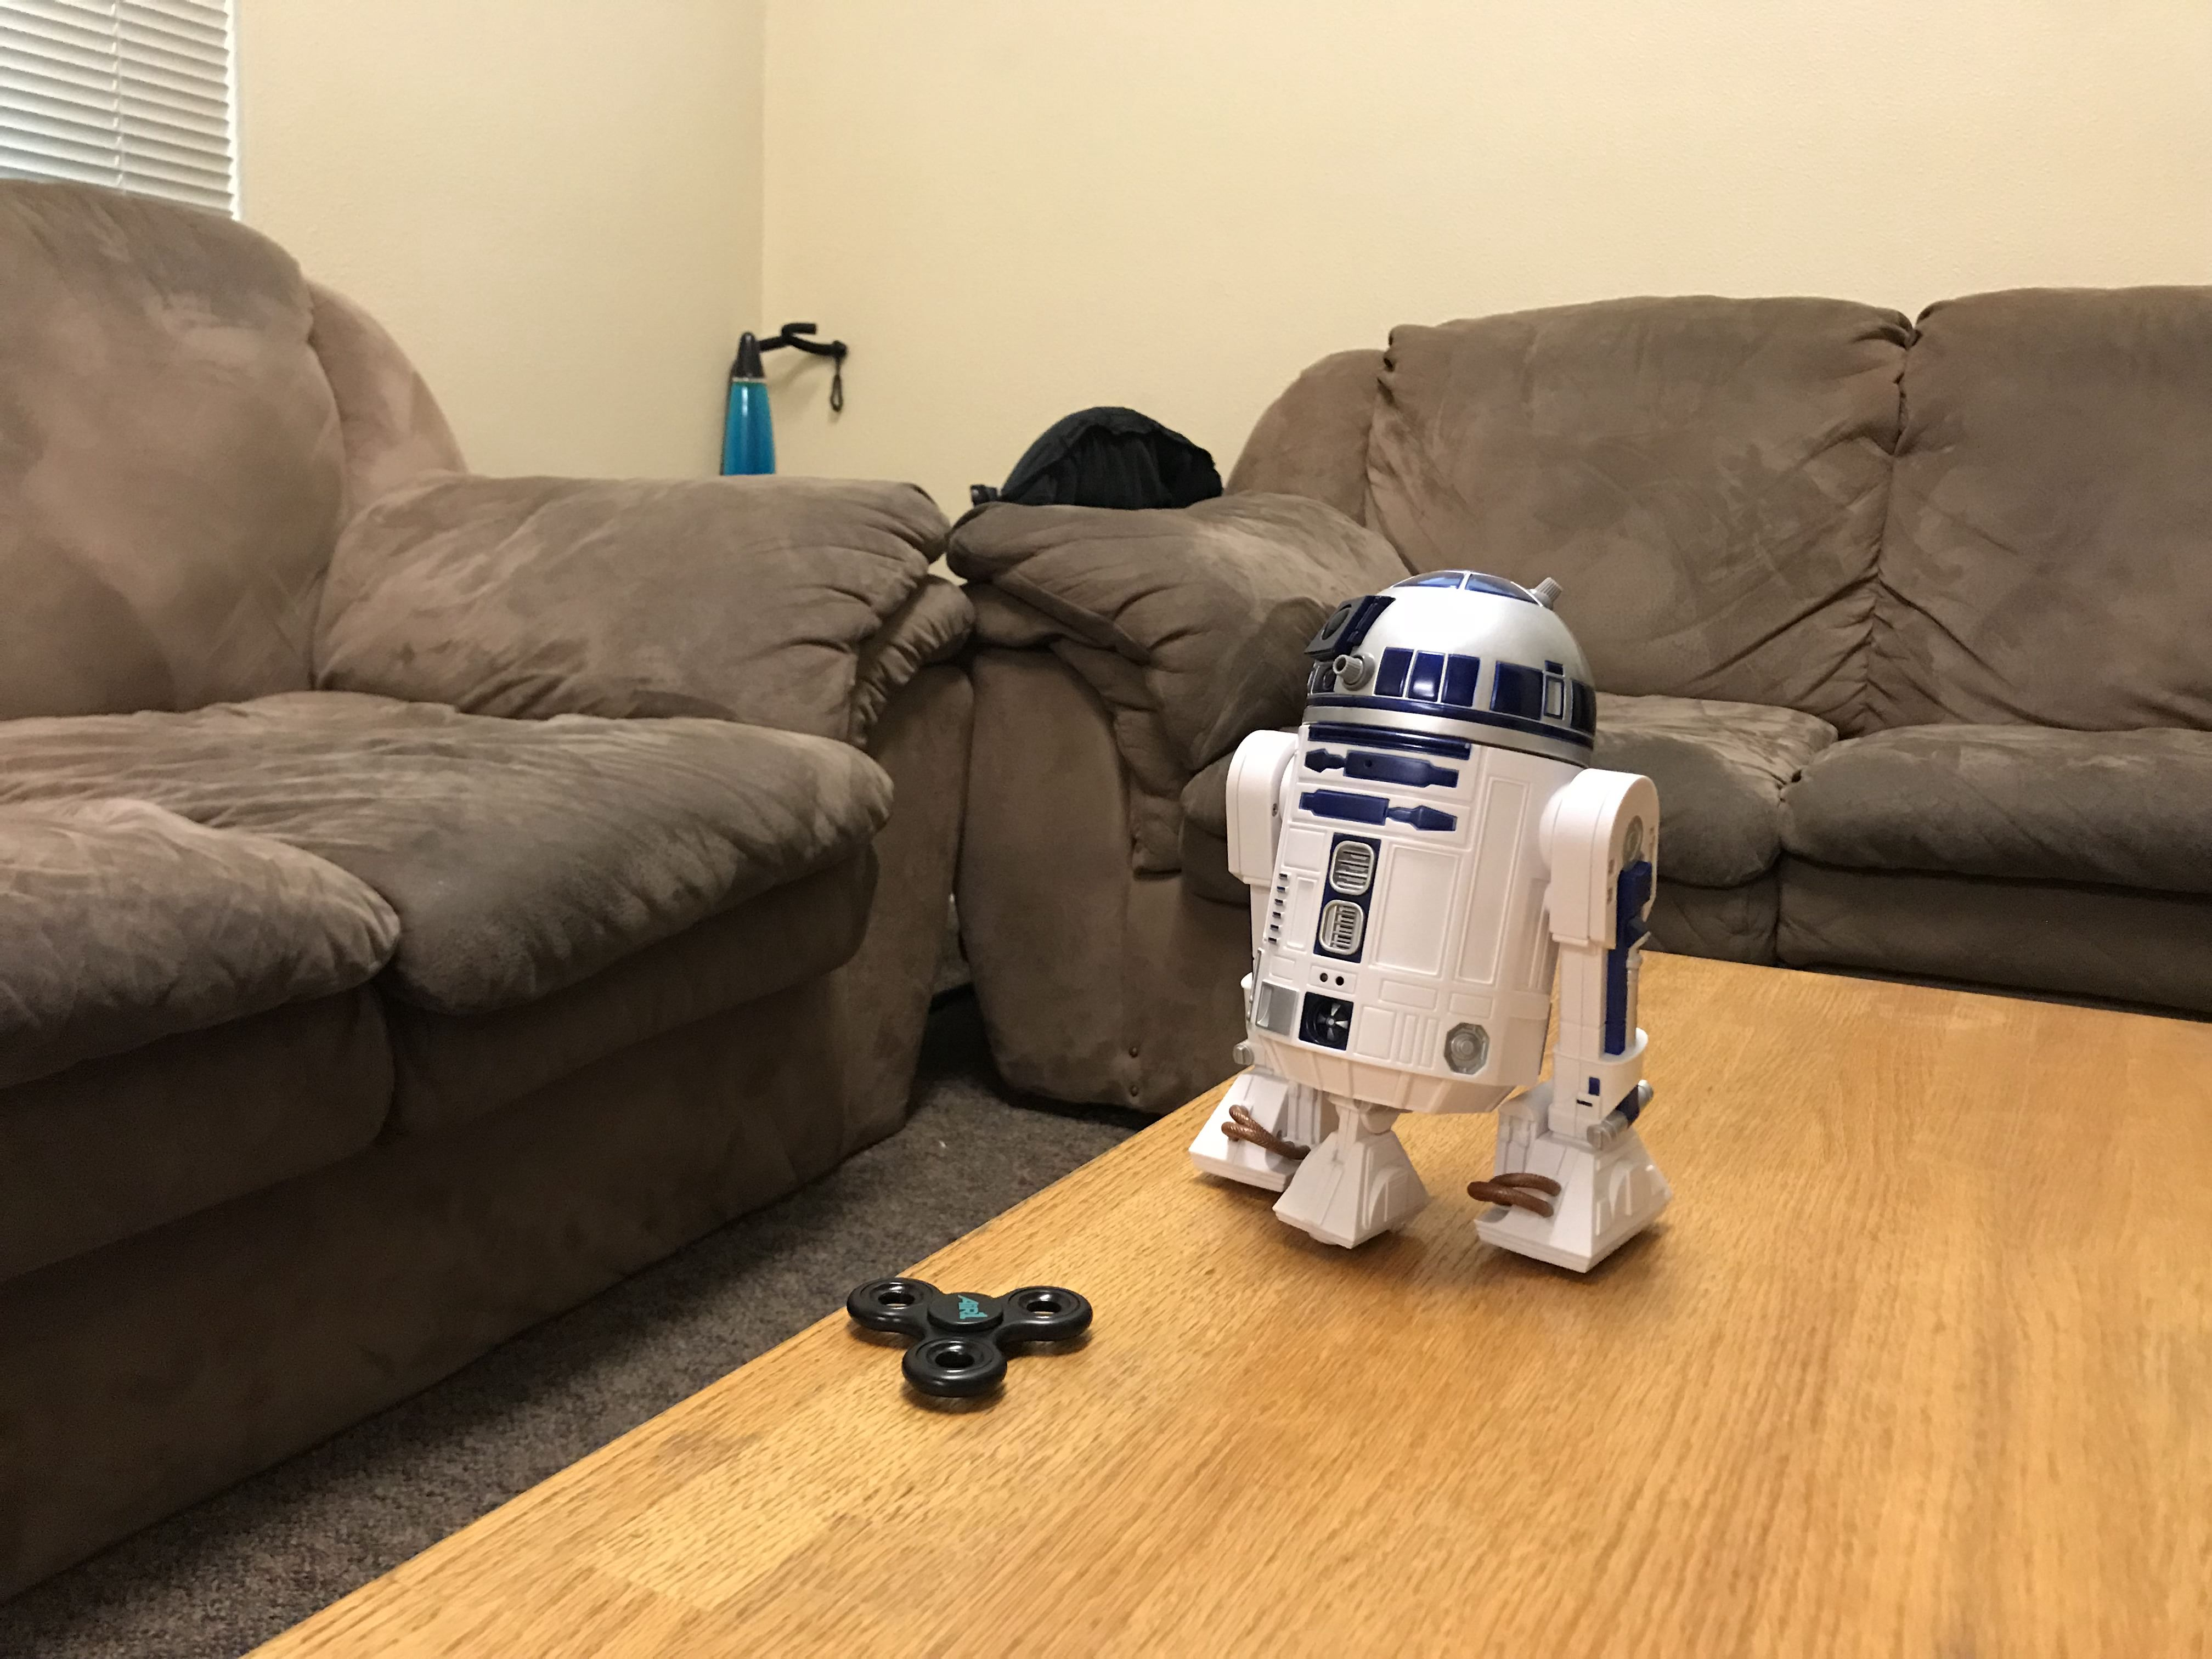r2d2: (1191, 566, 1674, 1276)
